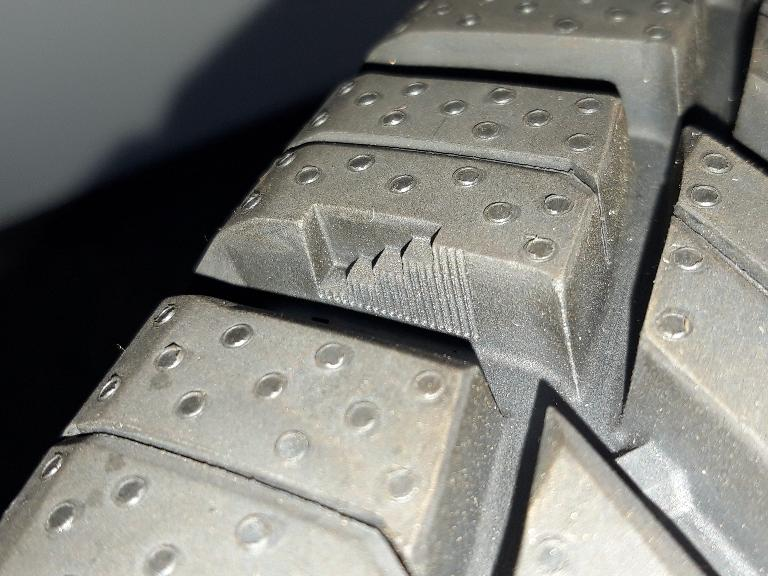temoin:100: (289, 196, 487, 347)
